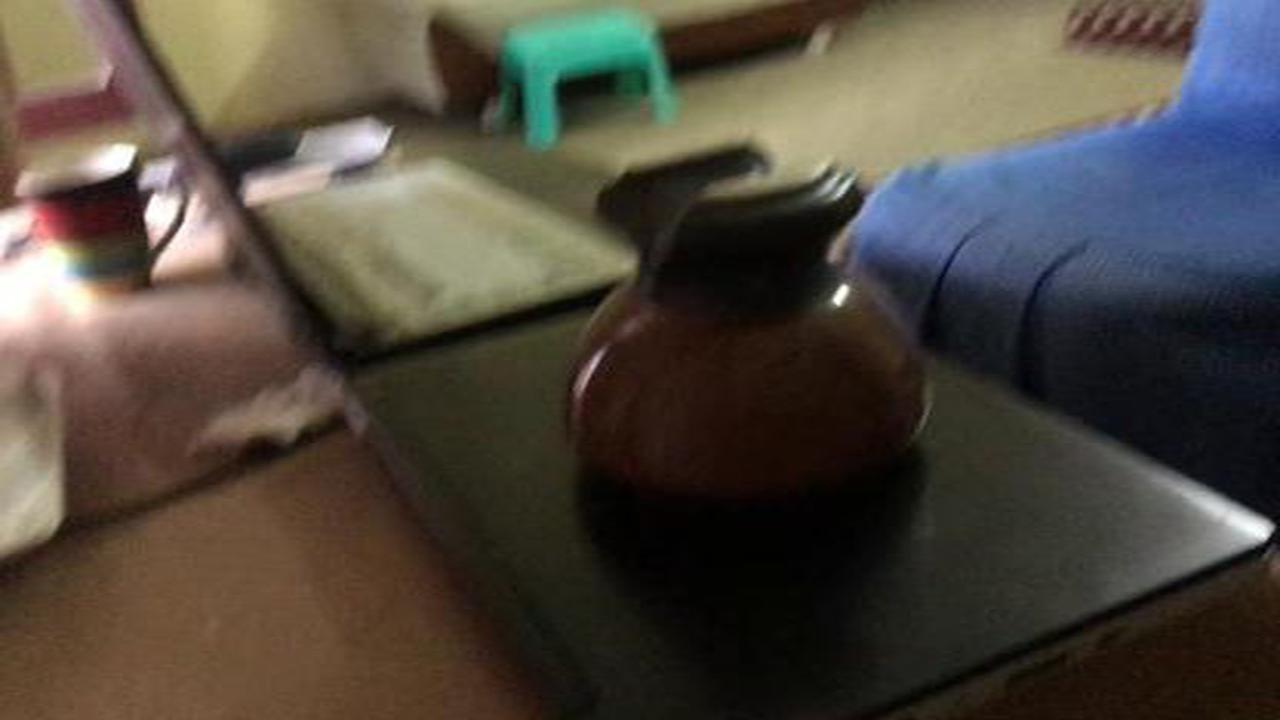insulator_pin: (542, 132, 957, 516)
